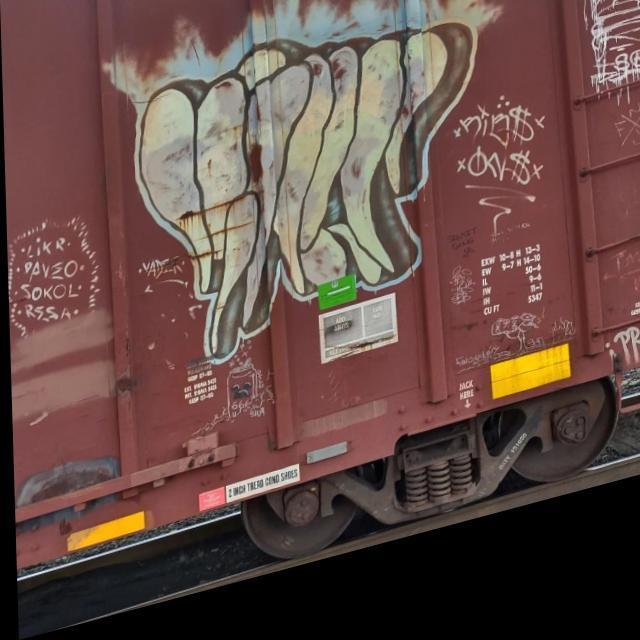-: (112, 0, 448, 384), (449, 112, 547, 284), (5, 188, 103, 353), (558, 0, 640, 157), (477, 326, 572, 394), (474, 262, 548, 348), (598, 125, 640, 191), (606, 354, 640, 406), (440, 281, 474, 332)
